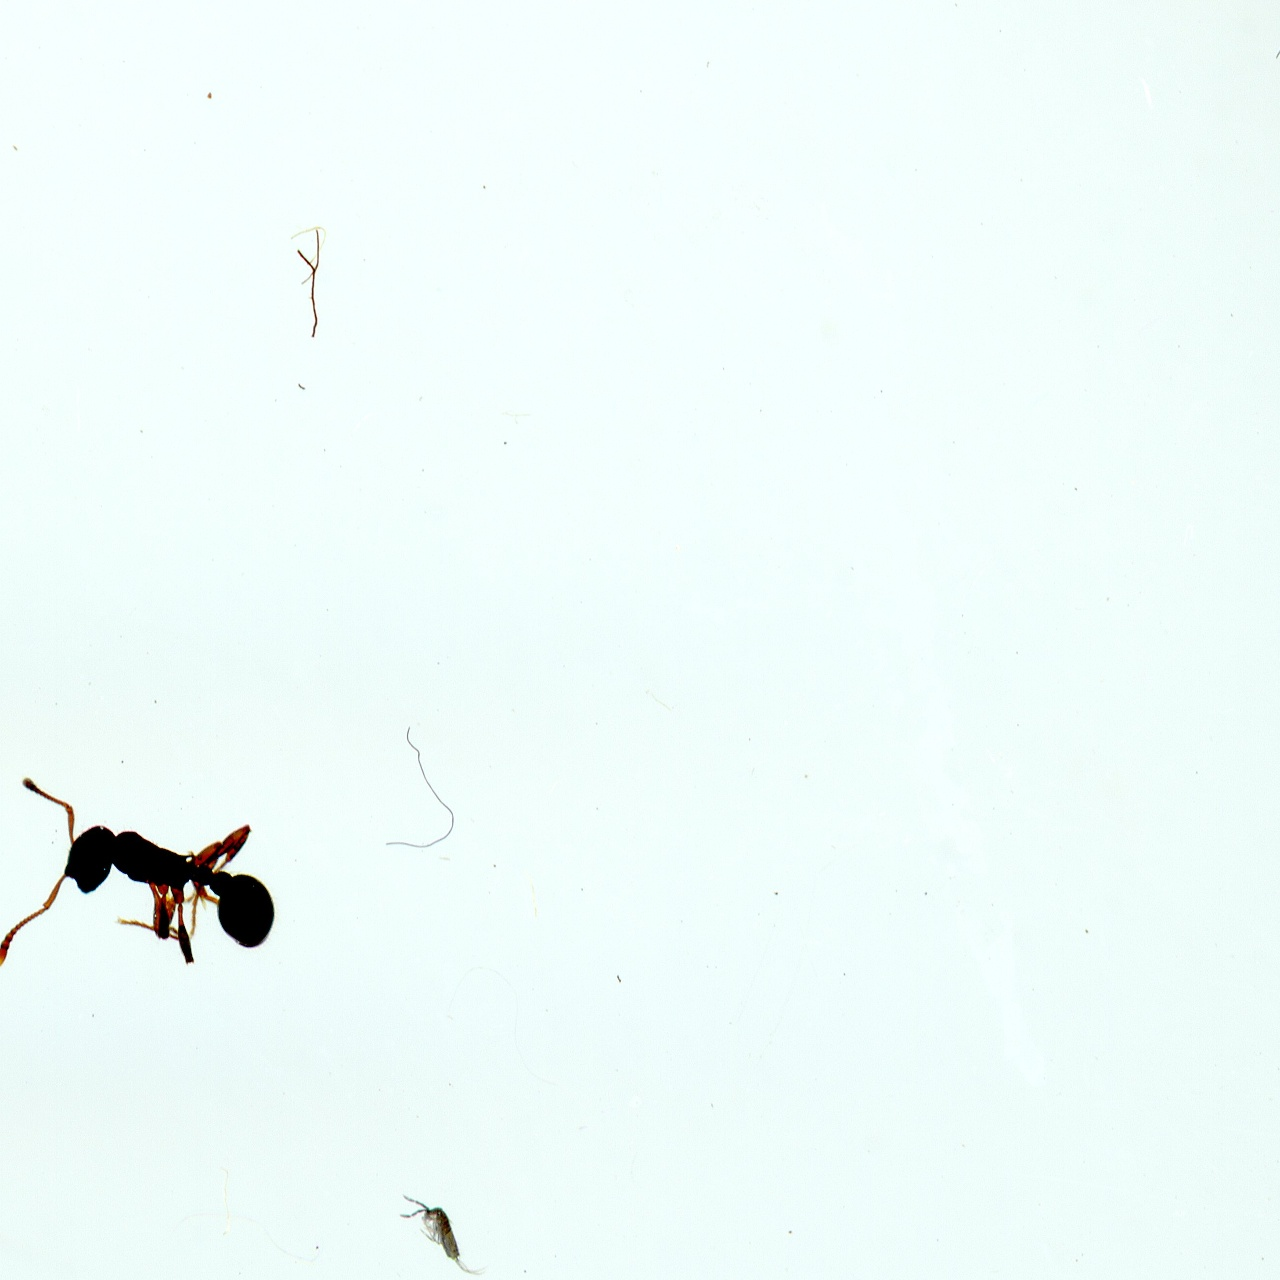arthropod: (0, 764, 301, 1020), (396, 1187, 496, 1280)
